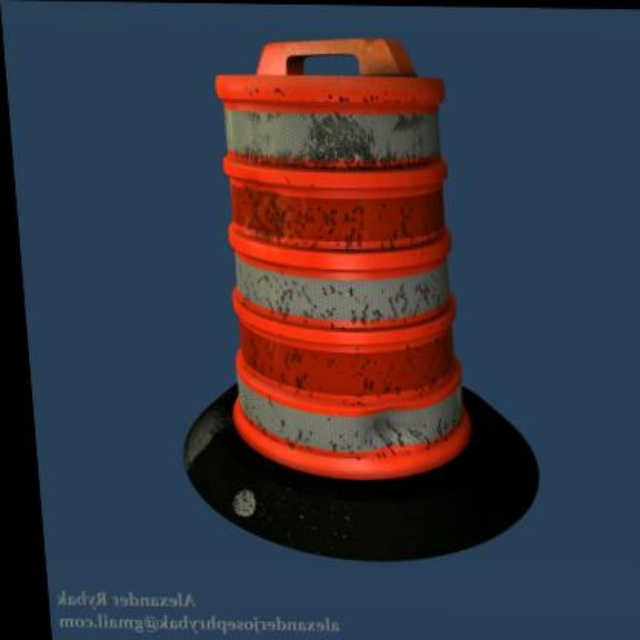obstacle: (177, 40, 479, 487)
